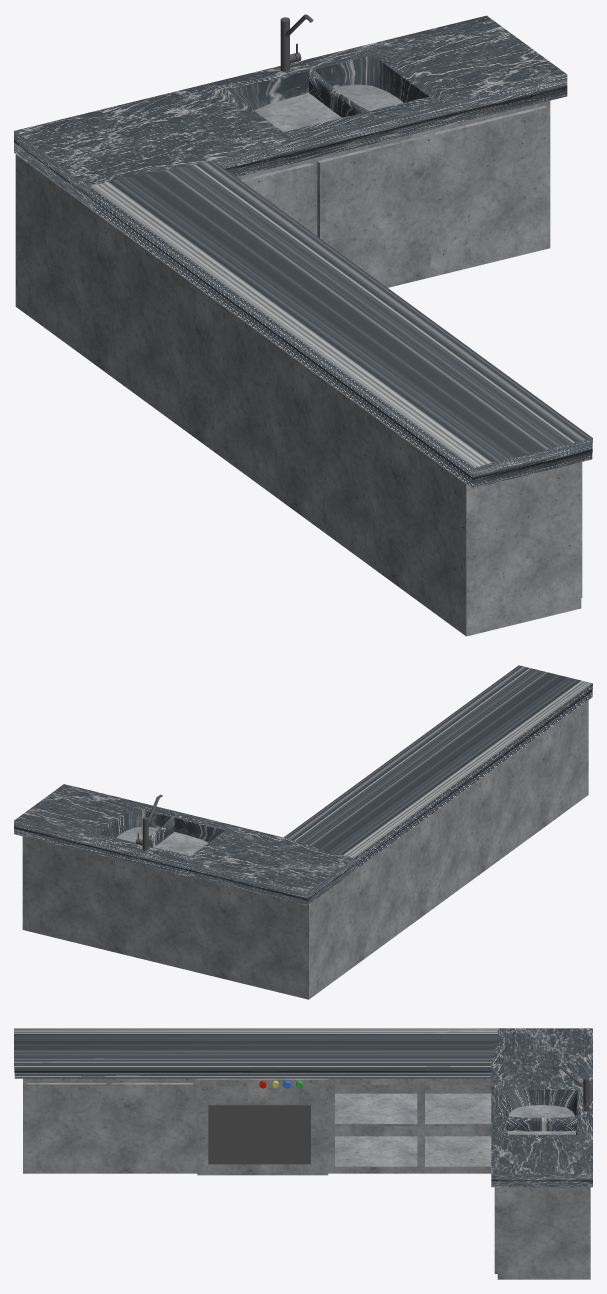
The model's file is Counter.fbx.
3 renders of one model, top to bottom at view 1: azimuth 30°, elevation 25°; view 2: azimuth 150°, elevation 25°; view 3: azimuth 270°, elevation 25°, orthographic. The views are drawn at different scales.
Visible parts, largest first — view 1: Base, CounterTop, Tap; view 2: Base, CounterTop; view 3: Base, CounterTop, OvenDoor, Tap.
Part boxes in pixels (x1=…): Base: x1=15, y1=84, x2=582, y2=636; CounterTop: x1=14, y1=15, x2=592, y2=488; Tap: x1=280, y1=14, x2=313, y2=71; Base: x1=22, y1=700, x2=588, y2=999; CounterTop: x1=14, y1=665, x2=592, y2=905; Base: x1=23, y1=1078, x2=590, y2=1279; CounterTop: x1=14, y1=1028, x2=592, y2=1187; OvenDoor: x1=208, y1=1104, x2=310, y2=1164; Tap: x1=553, y1=1066, x2=589, y2=1111.
Size of the model in its own units: 278 by 137 by 468.
8 materials, 8 textured.
